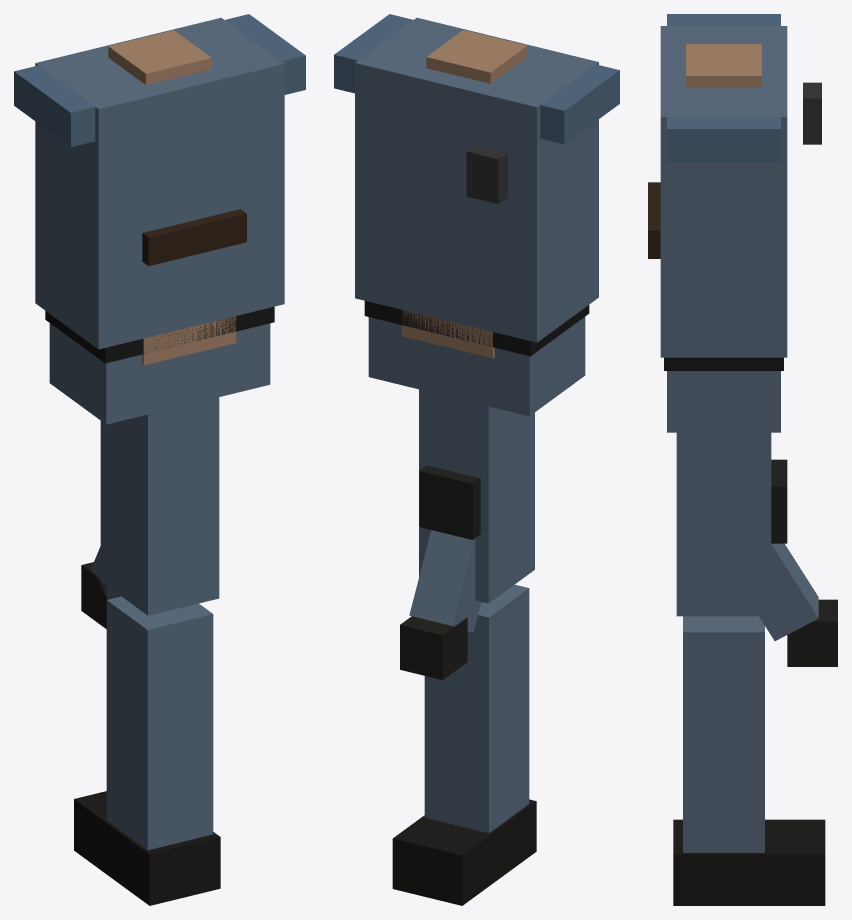
Rendered from operator_hostage.glb.
3 renders of one model, left to right at view 1: azimuth 30°, elevation 25°; view 2: azimuth 150°, elevation 25°; view 3: azimuth 270°, elevation 25°, orthographic. The views are drawn at different scales.
Parts seen in each view (by area): view 1: torso, legL, hips, head, armL; view 2: torso, legL, hips, armL, head; view 3: legL, torso, hips, armL, head.
Boxes of the visible parts, box(x1,y1,x2,y2) form: torso: box(14, 14, 305, 349); legL: box(74, 397, 220, 905); hips: box(45, 306, 274, 424); head: box(142, 209, 246, 365); armL: box(81, 546, 121, 628); torso: box(334, 14, 619, 342); legL: box(392, 389, 536, 905); hips: box(364, 301, 589, 416); armL: box(400, 530, 481, 679); head: box(402, 310, 494, 358); legL: box(673, 432, 825, 905); torso: box(660, 14, 821, 357); hips: box(664, 357, 783, 432); armL: box(759, 543, 837, 666); head: box(648, 182, 660, 258).
Size of the model in its own units: 0.43 by 1.44 by 0.3.
